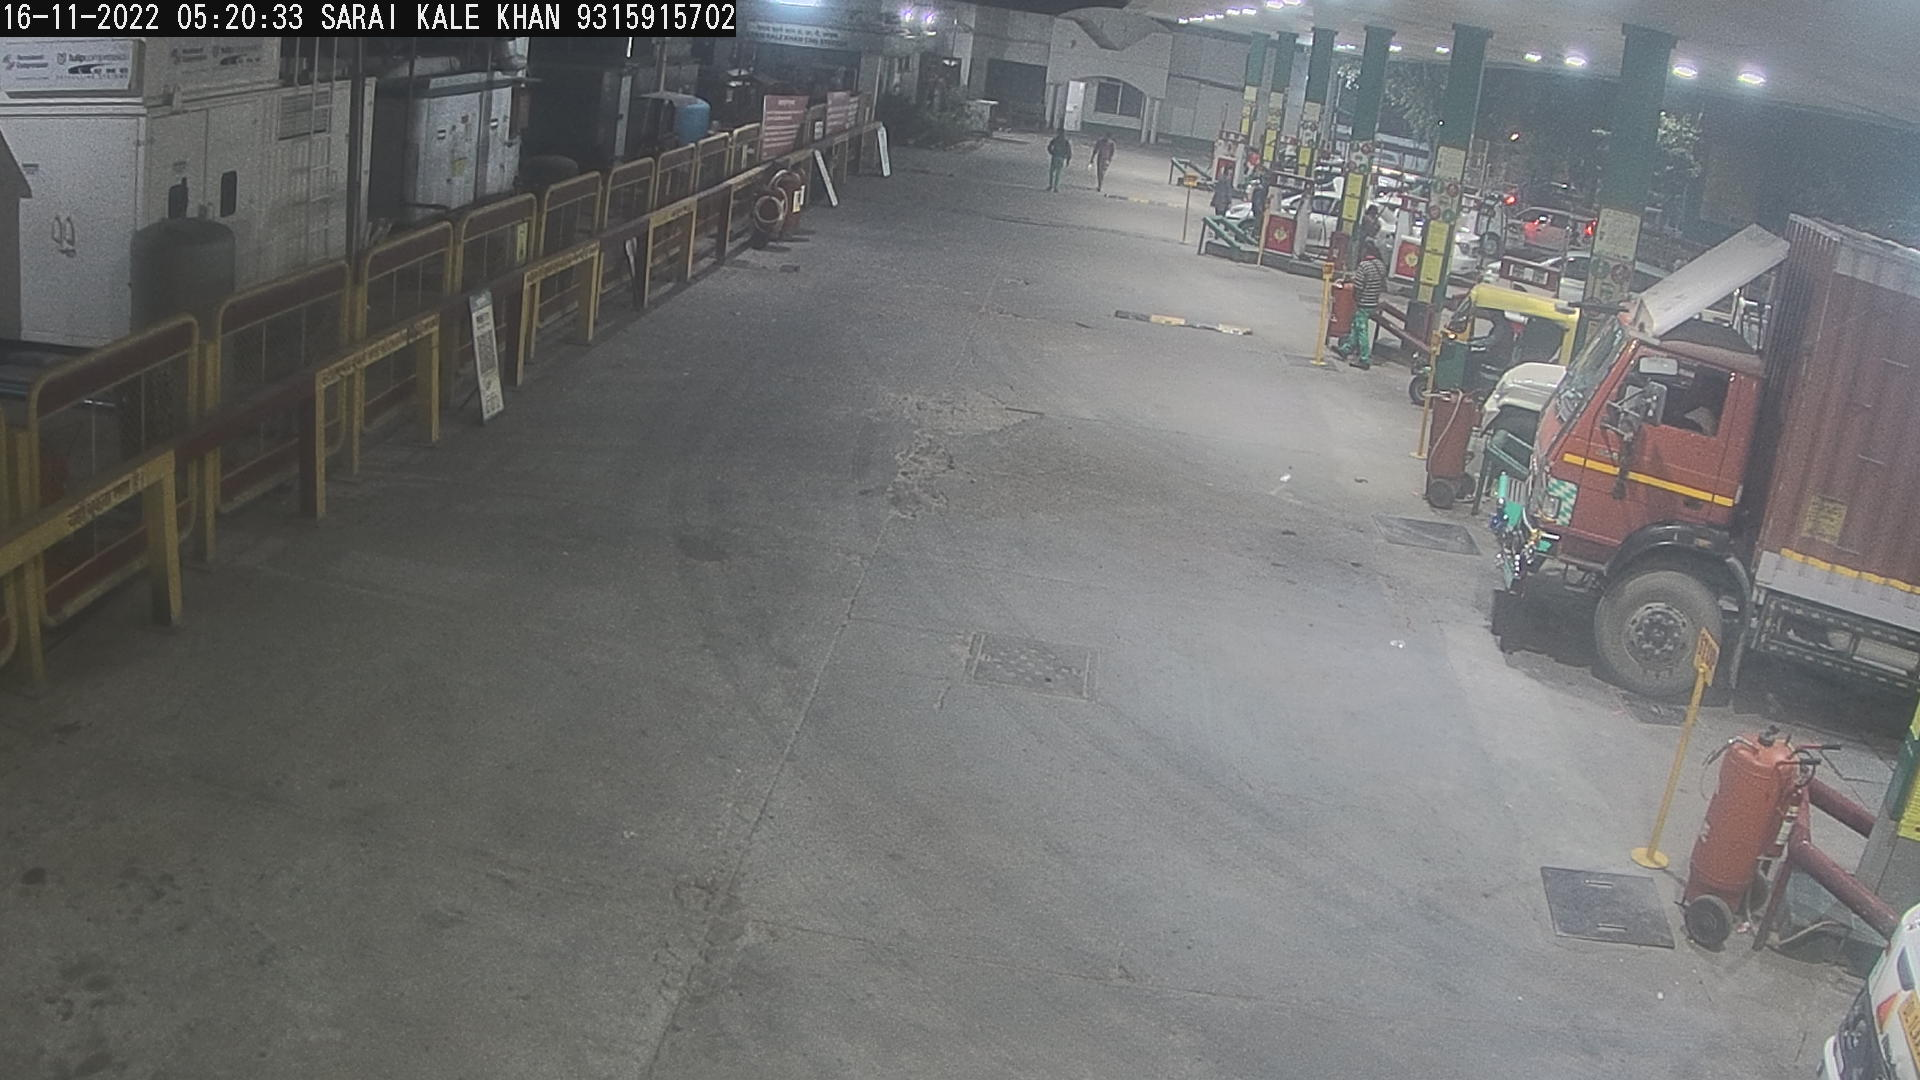Auto: (1393, 273, 1597, 460)
Car: (1455, 344, 1577, 502), (1633, 269, 1780, 377), (1203, 177, 1352, 278), (1468, 186, 1606, 291), (1358, 189, 1449, 299), (1346, 146, 1448, 231), (1597, 247, 1684, 326), (1437, 210, 1495, 306)
HMV: (1458, 204, 1913, 725), (1766, 833, 1917, 1076)
Others: (1323, 237, 1390, 375)
Others Other: (1635, 622, 1721, 872), (1406, 318, 1444, 480), (1305, 258, 1338, 368), (1247, 187, 1279, 278), (1175, 171, 1197, 253)
